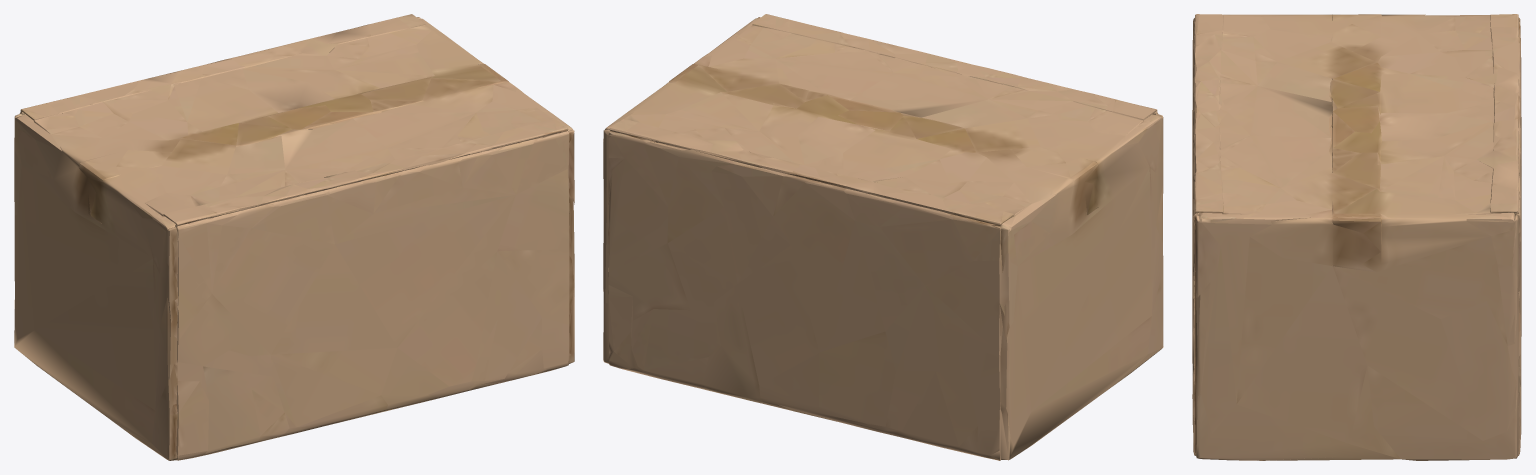
3 views of the same model, side by side, from view 1: azimuth 30°, elevation 25°; view 2: azimuth 150°, elevation 25°; view 3: azimuth 270°, elevation 25° (orthographic). The views are drawn at different scales.
Size of the model in its own units: 1.9 by 1.07 by 1.29.
Materials: 1 (1 with a texture image).
